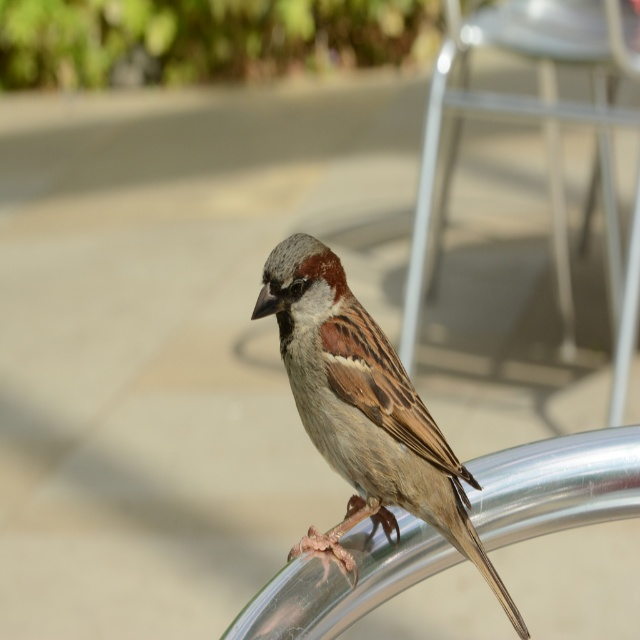Sparrow: (248, 228, 536, 639)
